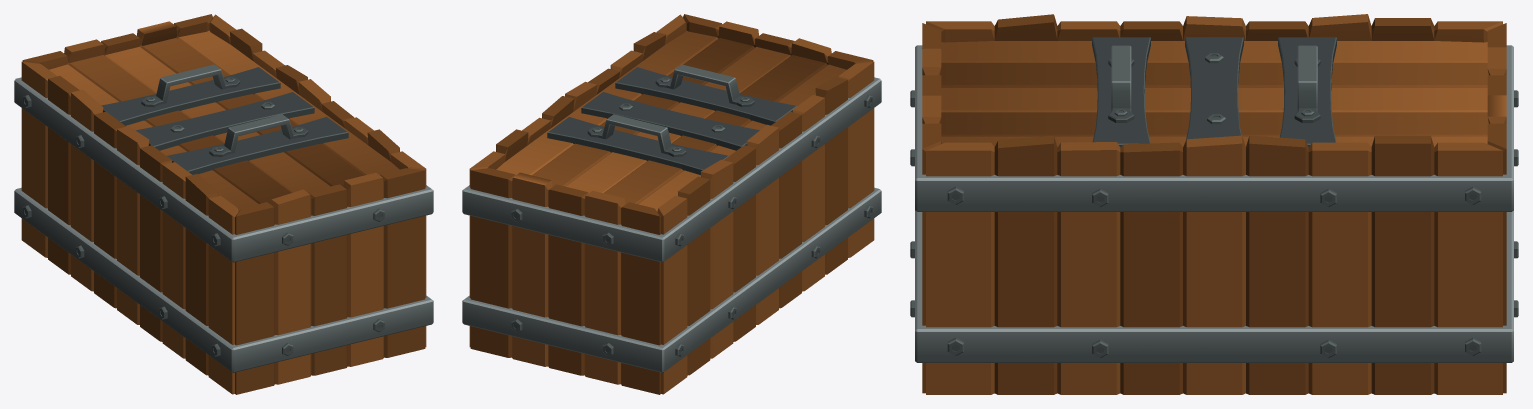
3 views of the same model, side by side, from view 1: azimuth 30°, elevation 25°; view 2: azimuth 150°, elevation 25°; view 3: azimuth 270°, elevation 25° (orthographic). The views are drawn at different scales.
Parts seen in each view (by area): view 1: Box-2-3; view 2: Box-2-3; view 3: Box-2-3.
Part boxes in pixels (x1=…): Box-2-3: x1=14, y1=14, x2=433, y2=394; Box-2-3: x1=462, y1=14, x2=881, y2=394; Box-2-3: x1=910, y1=14, x2=1518, y2=394.
Bounding box in the file's own units: 148 × 132 × 273.
